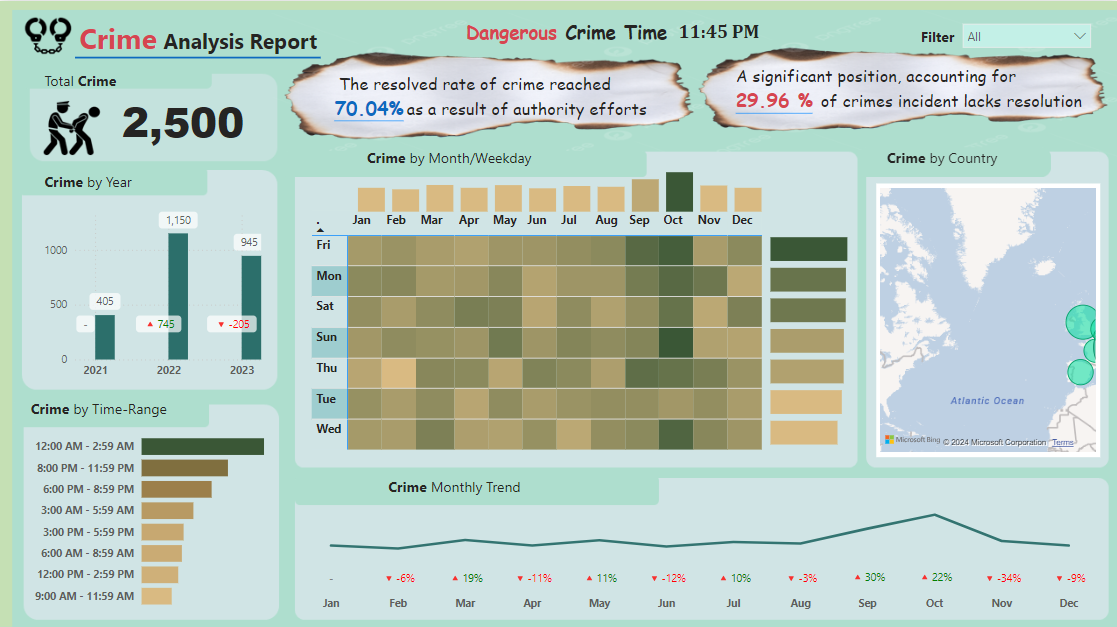

What the dashboard file says about the page in this screenshot:
{"tool":"powerbi","page":{"name":"Page 1","canvas":[1280,720],"ordinal":0},"visuals":[{"type":"card","fields":{"Values":["Calculation.Total Crimes"]},"box":[108.4,93.3,201.7,87.8],"z":0},{"type":"lineClusteredColumnComboChart","fields":{"Category":["DateTable.Year"],"Y":["Calculation.Blank Measure (Year)","Calculation.Total Crimes"]},"box":[45.3,230.5,258,209.9],"z":1000},{"type":"lineChart","fields":{"Category":["DateTable.Month"],"Y":["Calculation.Blank Measure (Month)","Calculation.Total Crimes"]},"box":[342.6,546.5,914.5,159.3],"z":2000},{"type":"clusteredBarChart","fields":{"Category":["Crime Data.Time Group"],"Y":["Calculation.Total Crimes"]},"box":[30.2,477.8,312.5,228],"z":3000},{"type":"pivotTable","fields":{"Rows":["DateTable.Weekday"],"Columns":["DateTable.Month"],"Values":["Calculation.Total Crimes"]},"box":[351.1,234,544.1,287.1],"z":4000},{"type":"clusteredColumnChart","fields":{"Y":["Calculation.Total Crimes"],"Category":["DateTable.Month"]},"box":[404.2,168.9,471.7,78.4],"z":5000},{"type":"clusteredBarChart","fields":{"Y":["Calculation.Total Crimes"],"Category":["DateTable.Weekday"]},"box":[875.9,257,103.8,255.8],"z":6000},{"type":"textbox","box":[377.6,76,401.7,77.2],"z":7000},{"type":"textbox","box":[836.1,67.6,421,85.7],"z":8000},{"type":"map","fields":{"Category":["Crime Data.Country"],"Size":["Calculation.Total Crimes"]},"box":[1001.3,208.7,255.8,312.5],"z":9000},{"type":"textbox","box":[526.9,15.1,279.9,52.1],"z":10000},{"type":"card","fields":{"Values":["Min(Crime Data.Time_AMPM)"]},"box":[737.1,15.7,168.9,39.8],"z":11000},{"type":"slicer","fields":{"Values":["Crime Types.Crime"]},"box":[1090.6,15.7,166.5,39.8],"z":12000},{"type":"textbox","box":[1047.2,24.1,57.9,43.4],"z":13000},{"type":"textbox","box":[85.7,15.7,310.1,60.3],"z":14000},{"type":"shape","box":[85.7,36.2,281.1,57.9],"z":14001},{"type":"textbox","box":[45.8,73.6,117,37.4],"z":14002},{"type":"textbox","box":[45.8,189.4,127.9,37.4],"z":14003},{"type":"textbox","box":[30.2,450,189.4,37.4],"z":14004},{"type":"textbox","box":[413.8,162.9,209.9,37.4],"z":14005},{"type":"textbox","box":[439.1,538.1,176.1,37.4],"z":14006},{"type":"textbox","box":[1008.6,162.9,165.3,37.4],"z":14007}]}

Visuals, with their boxes in screenshot pixels (x1, y1, x2, y2), scaled from the page's 1280x720 canvas onto the 1117x627 screenshot:
card - Calculation.Total Crimes: bbox=(95, 81, 271, 158)
lineClusteredColumnComboChart - DateTable.Year x Calculation.Blank Measure (Year): bbox=(40, 201, 265, 384)
lineChart - DateTable.Month x Calculation.Blank Measure (Month): bbox=(299, 476, 1097, 615)
clusteredBarChart - Crime Data.Time Group x Calculation.Total Crimes: bbox=(26, 416, 299, 615)
pivotTable - DateTable.Weekday x DateTable.Month: bbox=(306, 204, 781, 454)
clusteredColumnChart - Calculation.Total Crimes x DateTable.Month: bbox=(353, 147, 764, 215)
clusteredBarChart - Calculation.Total Crimes x DateTable.Weekday: bbox=(764, 224, 855, 447)
textbox: bbox=(330, 66, 680, 133)
textbox: bbox=(730, 59, 1097, 133)
map - Crime Data.Country x Calculation.Total Crimes: bbox=(874, 182, 1097, 454)
textbox: bbox=(460, 13, 704, 59)
card - Min(Crime Data.Time_AMPM): bbox=(643, 14, 791, 48)
slicer - Crime Types.Crime: bbox=(952, 14, 1097, 48)
textbox: bbox=(914, 21, 964, 59)
textbox: bbox=(75, 14, 345, 66)
shape: bbox=(75, 32, 320, 82)
textbox: bbox=(40, 64, 142, 97)
textbox: bbox=(40, 165, 152, 198)
textbox: bbox=(26, 392, 192, 424)
textbox: bbox=(361, 142, 544, 174)
textbox: bbox=(383, 469, 537, 501)
textbox: bbox=(880, 142, 1024, 174)
